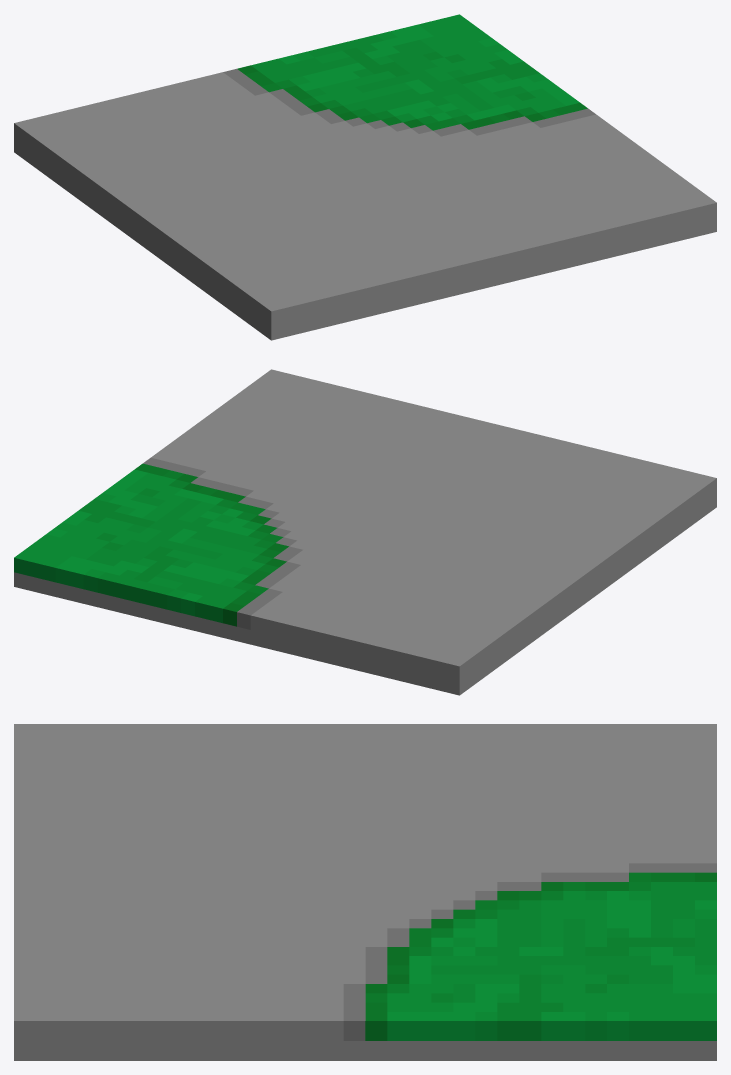
File: forest-city-rounded-edge-outer-2.gltf
The picture shows the model from 3 angles, top to bottom: view 1: azimuth 30°, elevation 25°; view 2: azimuth 150°, elevation 25°; view 3: azimuth 270°, elevation 25°; orthographic projection. The views are drawn at different scales.
Visible parts, largest first — view 1: forest-city-rounded-edge-outer-2; view 2: forest-city-rounded-edge-outer-2; view 3: forest-city-rounded-edge-outer-2.
Part boxes in pixels (x1,y1,x2,y2): forest-city-rounded-edge-outer-2: (14, 14, 716, 340); forest-city-rounded-edge-outer-2: (14, 369, 716, 695); forest-city-rounded-edge-outer-2: (14, 724, 716, 1060).
Bounding box in the file's own units: 3.2 × 0.2 × 3.2.
1 material, 1 textured.
